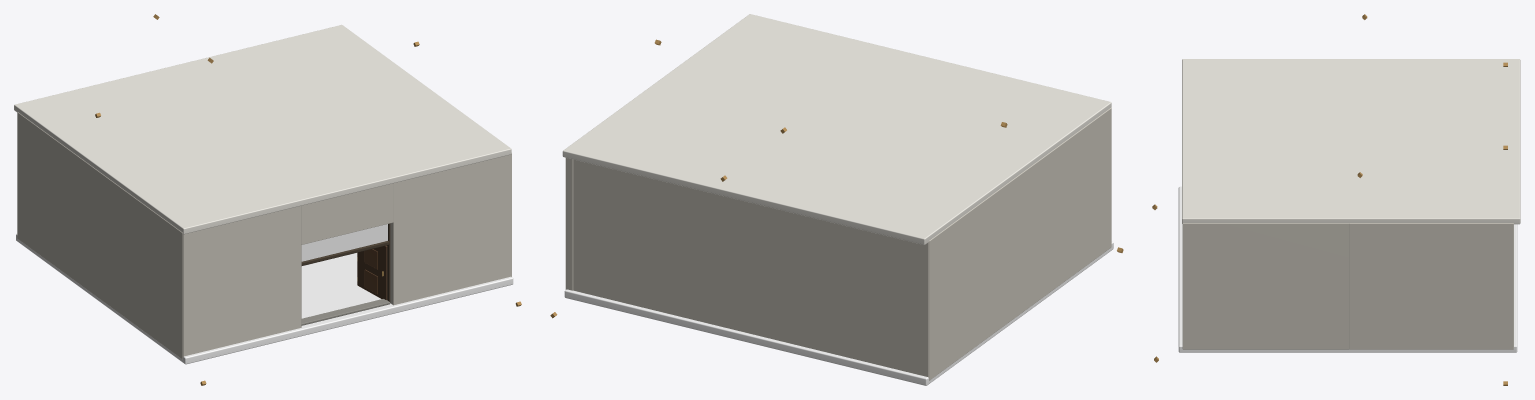
Rendered from RIFKI_Portfolio_Museum.glb.
3 views of the same model, side by side, from view 1: azimuth 30°, elevation 25°; view 2: azimuth 150°, elevation 25°; view 3: azimuth 270°, elevation 25° (orthographic). The views are drawn at different scales.
Parts seen in each view (by area): view 1: Ceiling, Left gallery wall, Front entrance wall | right wing, Front entrance wall | left wing, Gallery floor, Front wall header above entrance, Glazed transom, Open walnut door | right, Stone door threshold, Entrance lintel | over doors; view 2: Ceiling, Rear gallery wall, Left gallery wall, Gallery floor, Right return wall; view 3: Ceiling, Right gallery wall | entrance closure, Right return wall, Gallery floor.
Part boxes in pixels (x1=…): Ceiling: x1=14, y1=25, x2=511, y2=234; Left gallery wall: x1=17, y1=112, x2=182, y2=359; Front entrance wall | right wing: x1=390, y1=154, x2=511, y2=305; Front entrance wall | left wing: x1=183, y1=206, x2=301, y2=356; Gallery floor: x1=16, y1=234, x2=513, y2=364; Front wall header above entrance: x1=301, y1=183, x2=393, y2=244; Glazed transom: x1=301, y1=224, x2=387, y2=261; Open walnut door | right: x1=357, y1=245, x2=387, y2=299; Stone door threshold: x1=301, y1=299, x2=390, y2=325; Entrance lintel | over doors: x1=301, y1=241, x2=389, y2=265; Ceiling: x1=562, y1=14, x2=1111, y2=244; Rear gallery wall: x1=573, y1=159, x2=928, y2=377; Left gallery wall: x1=929, y1=107, x2=1111, y2=380; Gallery floor: x1=564, y1=242, x2=1113, y2=385; Right return wall: x1=565, y1=158, x2=573, y2=290; Ceiling: x1=1182, y1=59, x2=1520, y2=224; Right gallery wall | entrance closure: x1=1182, y1=223, x2=1349, y2=349; Right return wall: x1=1349, y1=223, x2=1513, y2=349; Gallery floor: x1=1178, y1=186, x2=1517, y2=352.
Bounding box in the file's own units: 18.14 × 11.14 × 16.75.
